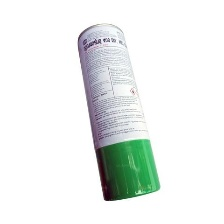aerosol_cans: (73, 20, 163, 204)
